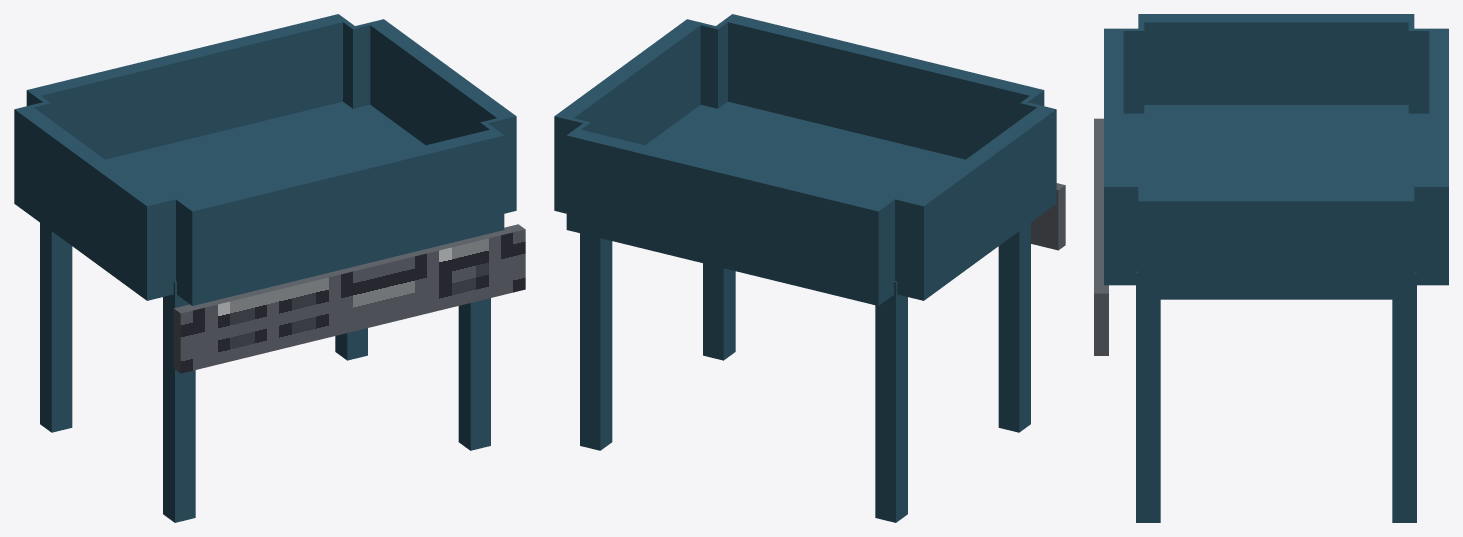
File: hydroponics_tray.glb
3 views of the same model, side by side, from view 1: azimuth 30°, elevation 25°; view 2: azimuth 150°, elevation 25°; view 3: azimuth 270°, elevation 25° (orthographic). The views are drawn at different scales.
Parts seen in each view (by area): view 1: hydroponics_tray_Tray_And_Support_Frame; view 2: hydroponics_tray_Tray_And_Support_Frame; view 3: hydroponics_tray_Tray_And_Support_Frame.
Part boxes in pixels (x1,y1,x2,y2): hydroponics_tray_Tray_And_Support_Frame: (14, 14, 525, 522); hydroponics_tray_Tray_And_Support_Frame: (554, 14, 1065, 522); hydroponics_tray_Tray_And_Support_Frame: (1094, 14, 1448, 522).
Size of the model in its own units: 0.9 by 0.75 by 0.72.
1 material, 1 textured.
